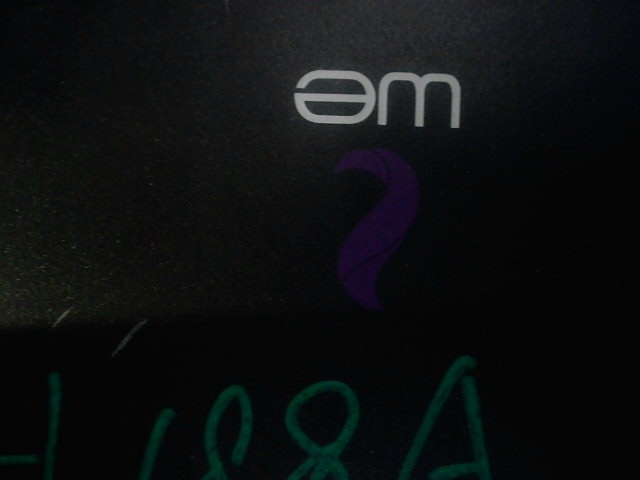AT_We: (285, 65, 472, 309)
